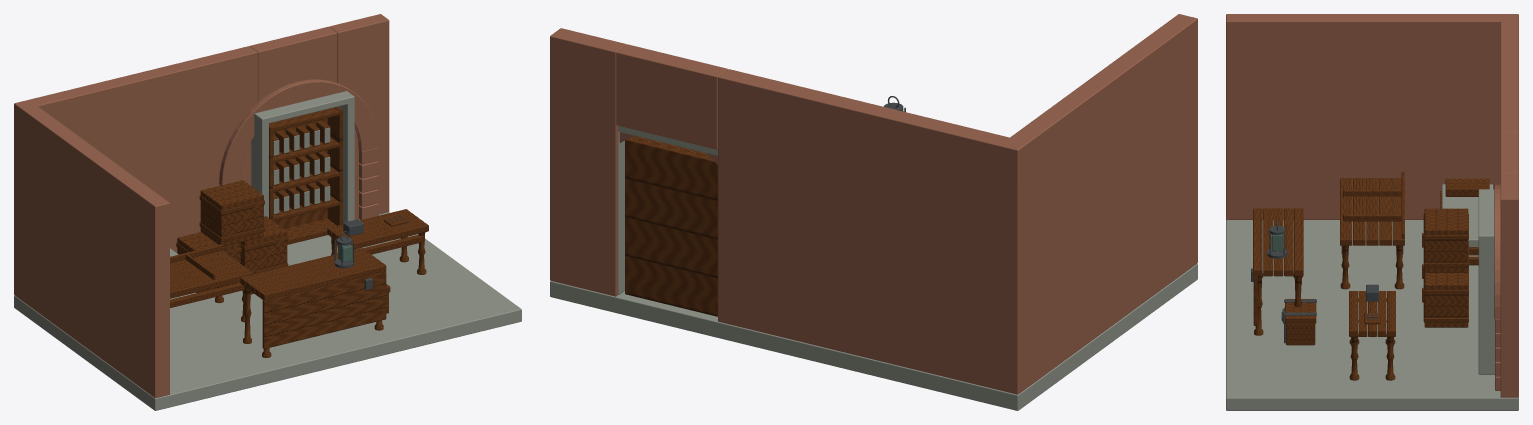
Rendered from undercity-sewers-and-thieves-den-thieves-den-4f09e54a__27260.glb.
The picture shows the model from 3 angles, left to right: view 1: azimuth 30°, elevation 25°; view 2: azimuth 150°, elevation 25°; view 3: azimuth 270°, elevation 25°; orthographic projection. The views are drawn at different scales.
Visible parts, largest first — view 1: 000-pump-room-shell/1, 000-pump-room-shell/0, 005-hidden-door-bookcase/bookcase-door (×5), 001-fences-counter/0, 006-stolen-goods-crates/0, 005-hidden-door-bookcase/0, 001-fences-counter/1, 002-loot-sorting-table/1, 003-lockpick-bench/1, 006-stolen-goods-crates/1, 003-lockpick-bench/0, 002-loot-sorting-table/0; view 2: 000-pump-room-shell/1, 005-hidden-door-bookcase/bookcase-door, 000-pump-room-shell/0, 005-hidden-door-bookcase/0; view 3: 000-pump-room-shell/1, 000-pump-room-shell/0, 006-stolen-goods-crates/0, 002-loot-sorting-table/1, 005-hidden-door-bookcase/0, 001-fences-counter/1, 003-lockpick-bench/1, 006-stolen-goods-crates/1, 004-cot/2, 001-fences-counter/0, 004-cot/3, 003-lockpick-bench/0 (+4 smaller).
Part boxes in pixels (box(x1,y1,x2,y2)): 000-pump-room-shell/1: box(14, 14, 389, 397); 000-pump-room-shell/0: box(14, 212, 521, 410); 005-hidden-door-bookcase/bookcase-door (×5): box(269, 106, 342, 244); 001-fences-counter/0: box(243, 271, 386, 357); 006-stolen-goods-crates/0: box(177, 180, 287, 292); 005-hidden-door-bookcase/0: box(251, 91, 354, 223); 001-fences-counter/1: box(240, 248, 386, 300); 002-loot-sorting-table/1: box(170, 244, 252, 298); 003-lockpick-bench/1: box(327, 209, 428, 249); 006-stolen-goods-crates/1: box(176, 195, 288, 274); 003-lockpick-bench/0: box(331, 232, 426, 274); 002-loot-sorting-table/0: box(170, 282, 245, 322); 000-pump-room-shell/1: box(550, 14, 1197, 394); 005-hidden-door-bookcase/bookcase-door: box(625, 139, 717, 316); 000-pump-room-shell/0: box(550, 263, 1197, 410); 005-hidden-door-bookcase/0: box(618, 125, 717, 294); 000-pump-room-shell/1: box(1226, 14, 1518, 397); 000-pump-room-shell/0: box(1226, 219, 1518, 410); 006-stolen-goods-crates/0: box(1424, 208, 1468, 327); 002-loot-sorting-table/1: box(1340, 172, 1404, 245); 005-hidden-door-bookcase/0: box(1478, 189, 1494, 374); 001-fences-counter/1: box(1253, 208, 1303, 276); 003-lockpick-bench/1: box(1349, 291, 1395, 336); 006-stolen-goods-crates/1: box(1422, 213, 1468, 322); 004-cot/2: box(1442, 184, 1493, 247); 001-fences-counter/0: box(1253, 216, 1302, 335); 004-cot/3: box(1445, 178, 1489, 196); 003-lockpick-bench/0: box(1349, 298, 1395, 380).
Size of the model in its own units: 6 by 3.2 by 4.
Materials: 5 (1 with a texture image).
